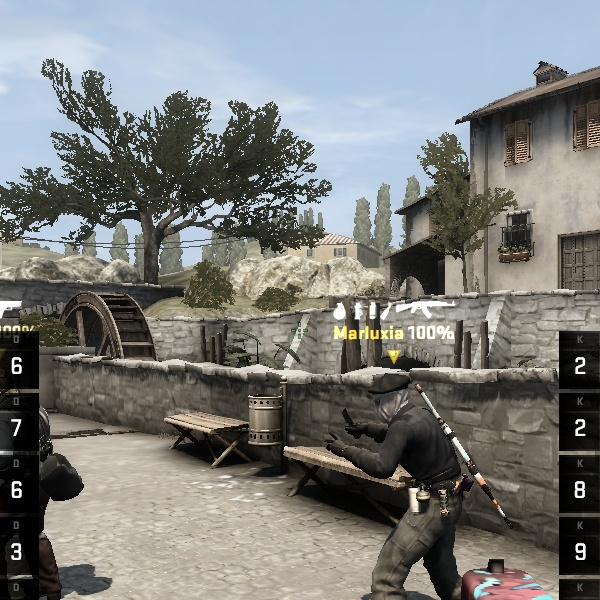t_body: (293, 363, 496, 599)
